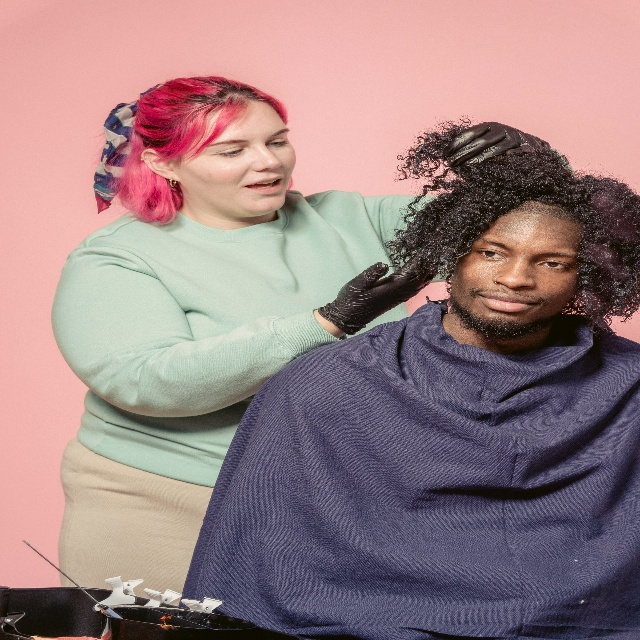Guantes: (317, 257, 435, 335), (443, 120, 550, 171)
